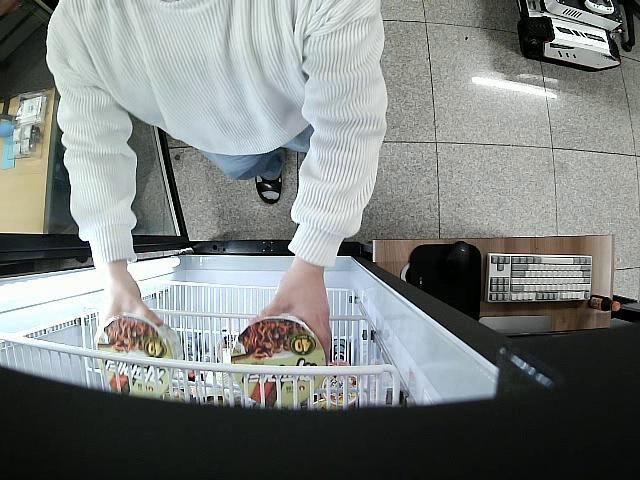03_chapagetti_L: (232, 319, 326, 408), (97, 314, 182, 396)
